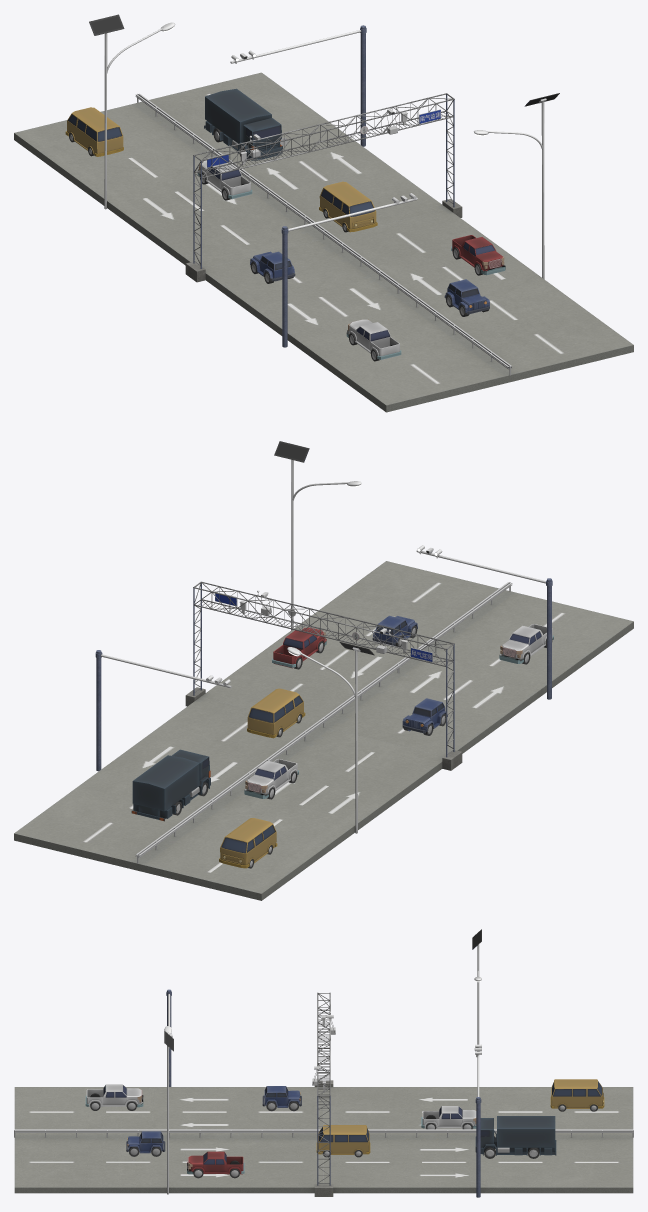
Rendered from RemoteMoinitor.glb.
The picture shows the model from 3 angles, top to bottom: view 1: azimuth 30°, elevation 25°; view 2: azimuth 150°, elevation 25°; view 3: azimuth 270°, elevation 25°; orthographic projection. The views are drawn at different scales.
Parts seen in each view (by area): view 1: separated_20, CAR05, separated_01_179, FG, CAR04, CAR07, separated_01_34, CAR10, CAR03, CAR08, CAR02, CAR09 (+6 smaller); view 2: separated_20, CAR05, separated_01_179, FG, CAR07, CAR04, separated_01_34, CAR08, CAR03, CAR10, CAR09, separated_01_98 (+2 smaller); view 3: separated_20, CAR05, FG, CAR07, CAR04, CAR03, CAR10, CAR08, CAR02, CAR09, separated_01_179, separated_01_98 (+2 smaller).
Boxes of the visible parts, left/top/right/bottom form: separated_20: left=14, top=72, right=633, bottom=412; CAR05: left=204, top=88, right=282, bottom=160; separated_01_179: left=193, top=93, right=454, bottom=268; FG: left=135, top=93, right=512, bottom=369; CAR04: left=319, top=181, right=377, bottom=232; CAR07: left=65, top=107, right=123, bottom=156; separated_01_34: left=194, top=98, right=453, bottom=264; CAR10: left=346, top=319, right=401, bottom=361; CAR03: left=451, top=235, right=505, bottom=275; CAR08: left=197, top=160, right=252, bottom=200; CAR02: left=444, top=279, right=489, bottom=316; CAR09: left=250, top=251, right=295, bottom=283; separated_20: left=14, top=561, right=633, bottom=900; CAR05: left=131, top=749, right=210, bottom=821; separated_01_179: left=193, top=581, right=454, bottom=757; FG: left=135, top=582, right=512, bottom=857; CAR07: left=219, top=818, right=277, bottom=868; CAR04: left=247, top=688, right=305, bottom=738; separated_01_34: left=194, top=582, right=453, bottom=749; CAR08: left=244, top=759, right=298, bottom=799; CAR03: left=272, top=627, right=326, bottom=669; CAR10: left=499, top=624, right=553, bottom=664; CAR09: left=402, top=698, right=447, bottom=735; separated_01_98: left=198, top=587, right=449, bottom=665; separated_20: left=14, top=1087, right=633, bottom=1193; CAR05: left=475, top=1116, right=556, bottom=1158; FG: left=14, top=1129, right=633, bottom=1132; CAR07: left=550, top=1079, right=604, bottom=1111; CAR04: left=316, top=1125, right=370, bottom=1157; CAR03: left=187, top=1151, right=244, bottom=1178; CAR10: left=85, top=1084, right=143, bottom=1110; CAR08: left=421, top=1106, right=476, bottom=1129; CAR02: left=126, top=1131, right=165, bottom=1156; CAR09: left=262, top=1086, right=301, bottom=1111; separated_01_179: left=317, top=992, right=330, bottom=1185; separated_01_98: left=318, top=1000, right=329, bottom=1108.
Size of the model in its own units: 266 by 172 by 613.
10 materials, 6 textured.
